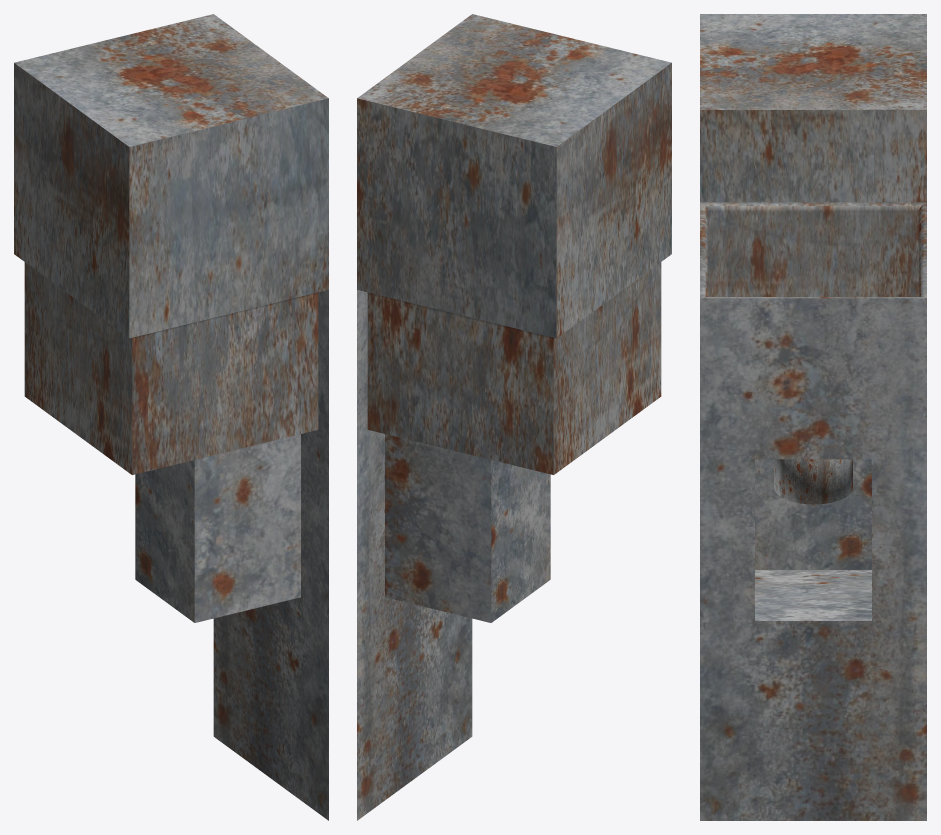
The model's file is blender.fbx.
3 renders of one model, left to right at view 1: azimuth 30°, elevation 25°; view 2: azimuth 150°, elevation 25°; view 3: azimuth 270°, elevation 25°, orthographic.
Parts seen in each view (by area): view 1: Cube; view 2: Cube; view 3: Cube, Cylinder.
Boxes of the visible parts, x1,y1,x2,y2 form: Cube: (14, 14, 328, 820); Cube: (357, 14, 671, 820); Cube: (700, 14, 926, 820); Cylinder: (774, 459, 852, 504).
Bounding box in the file's own units: 1200 × 4152 × 1200.
